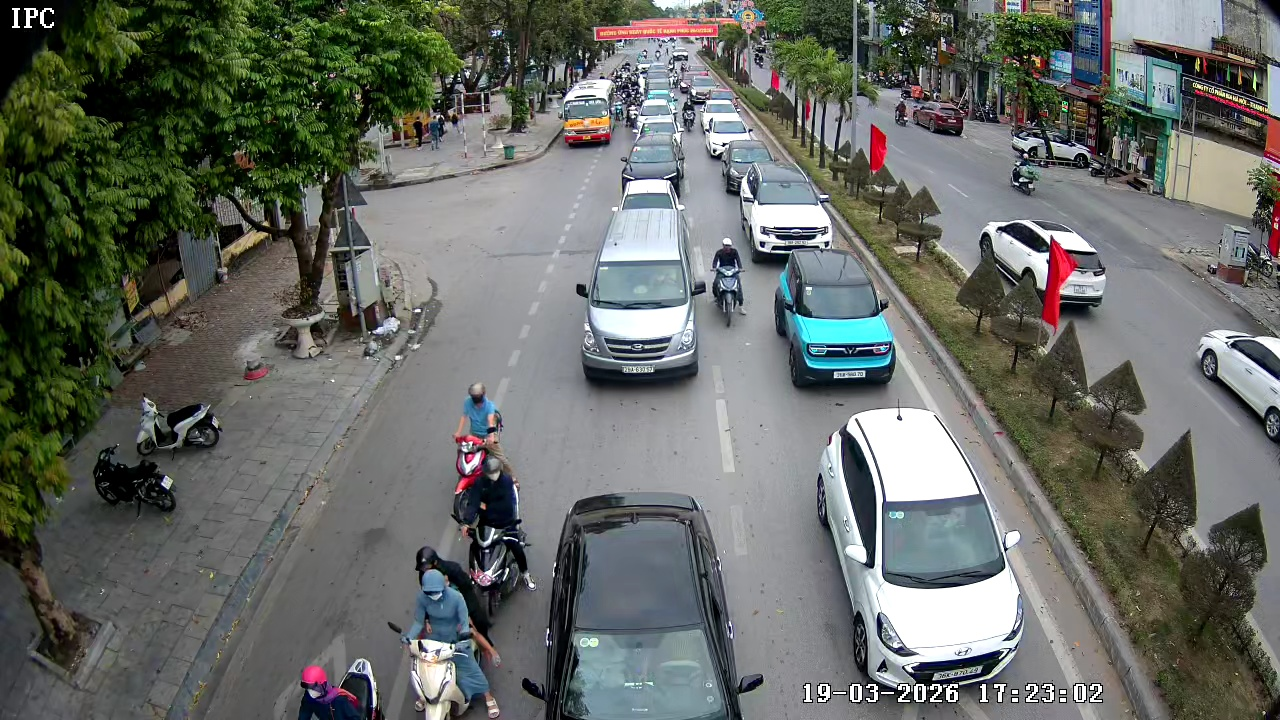car: (815, 406, 1022, 707), (576, 207, 706, 384), (773, 247, 895, 388), (977, 219, 1107, 310), (736, 162, 834, 261), (1194, 330, 1279, 444), (614, 178, 687, 236), (618, 140, 686, 195)
motorbike: (391, 545, 503, 719), (454, 433, 539, 617), (452, 381, 505, 482), (710, 237, 747, 327), (1009, 141, 1042, 195), (680, 97, 700, 132)
truck: (561, 72, 615, 148)
